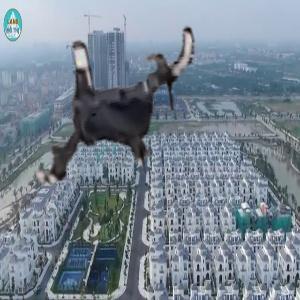drone: (11, 5, 220, 214)
